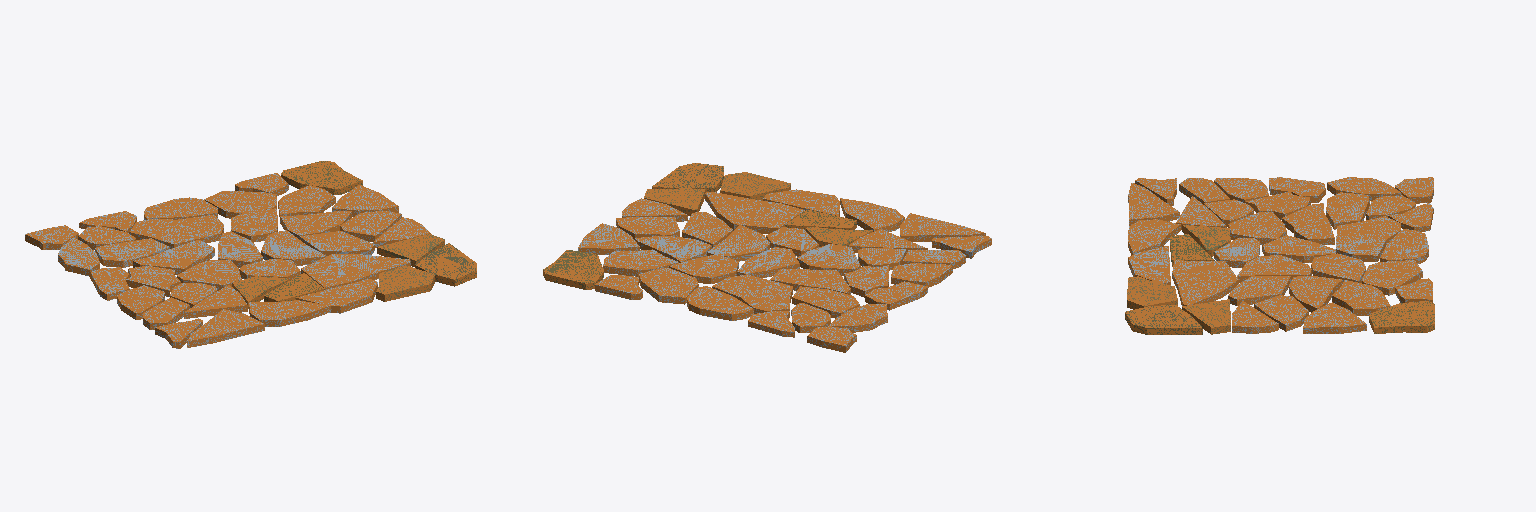
The model's file is sandstone_orange.obj.
The picture shows the model from 3 angles: view 1: azimuth 30°, elevation 25°; view 2: azimuth 150°, elevation 25°; view 3: azimuth 270°, elevation 25°; orthographic projection.
Parts seen in each view (by area): view 1: Mesh4 Group1 Model, Mesh35 Group1 Model, Mesh14 Group1 Model, Mesh19 Group1 Model, Mesh12 Group1 Model, Mesh13 Group1 Model, Mesh1 Group1 Model, Mesh16 Group1 Model, Mesh33 Group1 Model, Mesh6 Group1 Model, Mesh38 Group1 Model, Mesh27 Group1 Model (+26 smaller); view 2: Mesh4 Group1 Model, Mesh35 Group1 Model, Mesh14 Group1 Model, Mesh27 Group1 Model, Mesh31 Group1 Model, Mesh12 Group1 Model, Mesh19 Group1 Model, Mesh5 Group1 Model, Mesh13 Group1 Model, Mesh9 Group1 Model, Mesh1 Group1 Model, Mesh17 Group1 Model (+26 smaller); view 3: Mesh4 Group1 Model, Mesh35 Group1 Model, Mesh12 Group1 Model, Mesh14 Group1 Model, Mesh27 Group1 Model, Mesh21 Group1 Model, Mesh33 Group1 Model, Mesh5 Group1 Model, Mesh17 Group1 Model, Mesh13 Group1 Model, Mesh23 Group1 Model, Mesh19 Group1 Model (+26 smaller).
Boxes of the visible parts, box(x1,y1,x2,y2) form: Mesh4 Group1 Model: box(301, 254, 410, 289); Mesh35 Group1 Model: box(129, 215, 223, 248); Mesh14 Group1 Model: box(281, 161, 362, 194); Mesh19 Group1 Model: box(187, 309, 264, 347); Mesh12 Group1 Model: box(415, 243, 476, 286); Mesh13 Group1 Model: box(249, 300, 330, 326); Mesh1 Group1 Model: box(376, 265, 434, 301); Mesh16 Group1 Model: box(296, 279, 377, 313); Mesh33 Group1 Model: box(133, 240, 214, 274); Mesh6 Group1 Model: box(261, 230, 326, 265); Mesh38 Group1 Model: box(95, 238, 169, 267); Mesh27 Group1 Model: box(204, 191, 276, 218); Mesh4 Group1 Model: box(705, 192, 804, 233); Mesh35 Group1 Model: box(712, 274, 792, 313); Mesh14 Group1 Model: box(543, 250, 603, 289); Mesh27 Group1 Model: box(639, 268, 698, 304); Mesh31 Group1 Model: box(687, 286, 753, 320); Mesh12 Group1 Model: box(652, 163, 723, 192); Mesh19 Group1 Model: box(900, 213, 985, 241); Mesh5 Group1 Model: box(603, 249, 678, 276); Mesh13 Group1 Model: box(840, 198, 904, 231); Mesh9 Group1 Model: box(797, 244, 860, 275); Mesh1 Group1 Model: box(720, 172, 790, 200); Mesh17 Group1 Model: box(635, 235, 711, 262); Mesh4 Group1 Model: box(1172, 260, 1238, 305); Mesh35 Group1 Model: box(1336, 216, 1400, 261); Mesh12 Group1 Model: box(1125, 305, 1202, 334); Mesh14 Group1 Model: box(1369, 301, 1434, 333); Mesh27 Group1 Model: box(1362, 260, 1422, 295); Mesh21 Group1 Model: box(1303, 302, 1366, 333); Mesh33 Group1 Model: box(1282, 203, 1334, 244); Mesh5 Group1 Model: box(1332, 280, 1390, 315); Mesh17 Group1 Model: box(1289, 276, 1342, 312); Mesh13 Group1 Model: box(1128, 219, 1180, 255); Mesh23 Group1 Model: box(1228, 276, 1290, 305); Mesh19 Group1 Model: box(1128, 183, 1179, 225).
Size of the model in its own units: 3773 by 98.2 by 3268.